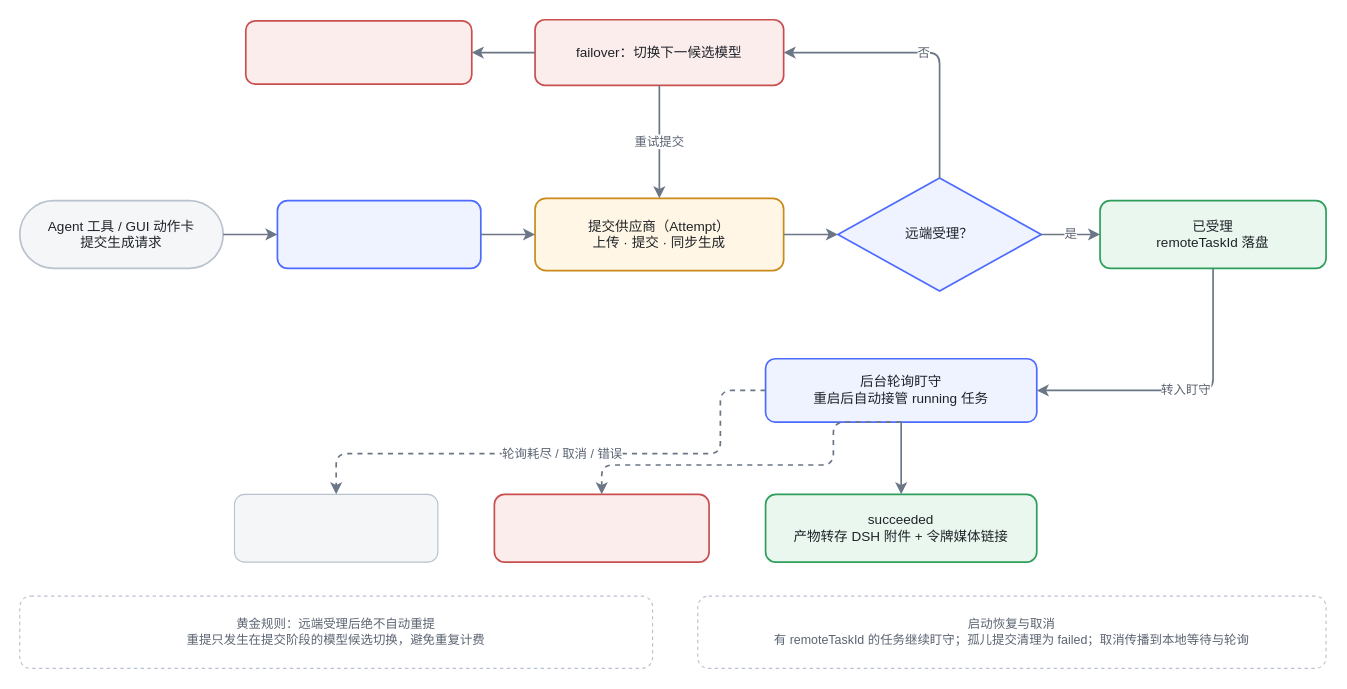
Some shapes in this 1347 by 689 pixel diagram are drawn without their labels. Here are the shapes that lost their labels. From the top down, the centre of each, then its label:
At pixel 358 52: "候选耗尽 任务失败".
At pixel 378 234: "创建本地任务 status = running".
At pixel 335 527: "canceled 取消信号传播".
At pixel 601 528: "failed 保留错误说明".
